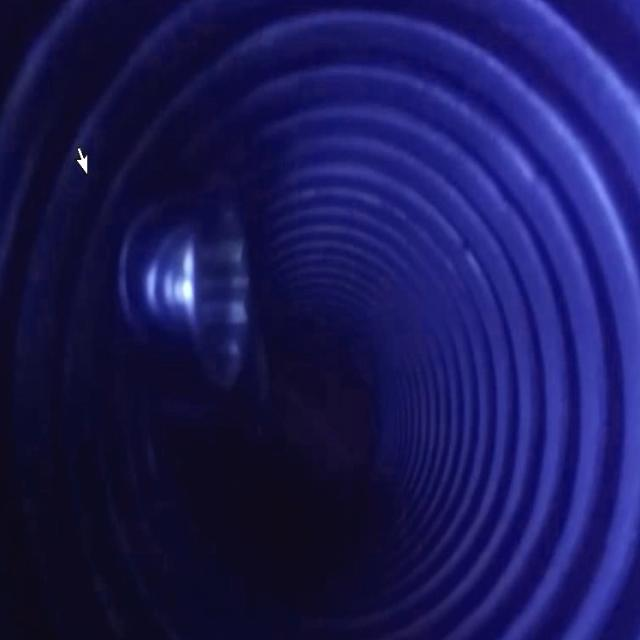metal piece: (118, 198, 252, 390)
